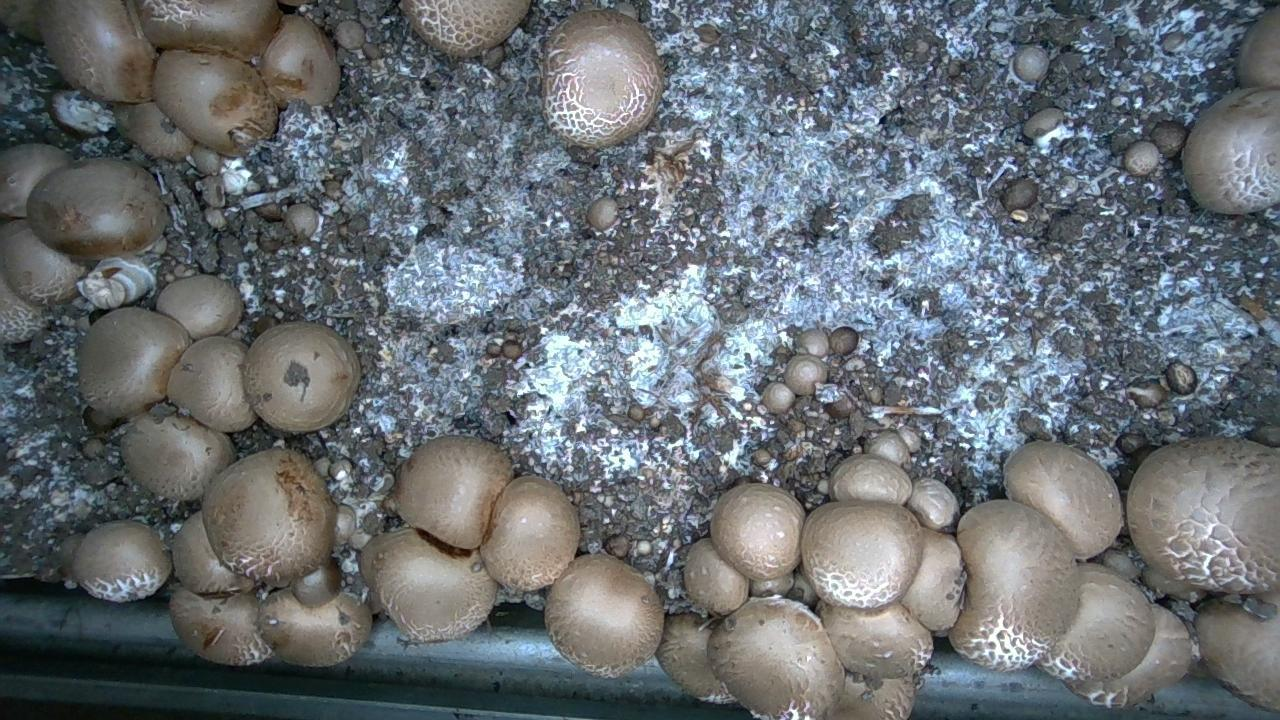BB: (1127, 438, 1279, 593), (949, 500, 1078, 671), (202, 449, 335, 586), (707, 597, 844, 719), (542, 10, 663, 147), (362, 528, 497, 642), (545, 554, 663, 677), (1004, 441, 1123, 560), (27, 158, 167, 259), (1038, 563, 1154, 680), (153, 50, 277, 156), (242, 321, 360, 432), (800, 500, 921, 608), (395, 436, 511, 548), (1065, 605, 1192, 707), (78, 307, 191, 418), (1182, 88, 1279, 213), (38, 0, 156, 102), (480, 476, 579, 590), (1195, 592, 1279, 711), (121, 413, 234, 500), (711, 484, 803, 579), (258, 589, 371, 666), (818, 602, 932, 678), (135, 0, 279, 60), (167, 336, 256, 432), (71, 521, 171, 601), (169, 588, 272, 665), (400, 0, 530, 57), (261, 15, 339, 108), (0, 219, 85, 303), (656, 613, 734, 703), (901, 528, 966, 631), (172, 512, 253, 593), (157, 274, 242, 339), (0, 143, 71, 217), (684, 538, 748, 614), (113, 102, 193, 161), (829, 454, 912, 504), (827, 672, 914, 719), (1237, 6, 1279, 88), (907, 478, 958, 530), (290, 560, 340, 607), (784, 354, 827, 394), (866, 430, 909, 464), (1151, 121, 1188, 157), (1013, 45, 1049, 82), (1023, 107, 1063, 139), (1001, 177, 1038, 211), (1123, 141, 1159, 175), (285, 203, 318, 239), (1164, 361, 1197, 394), (761, 382, 794, 414), (83, 406, 118, 433), (335, 20, 365, 50), (796, 329, 828, 356), (335, 504, 355, 543), (1249, 425, 1279, 447), (604, 534, 629, 558), (481, 45, 505, 69), (81, 436, 105, 459), (1161, 31, 1185, 53), (204, 208, 226, 229)
